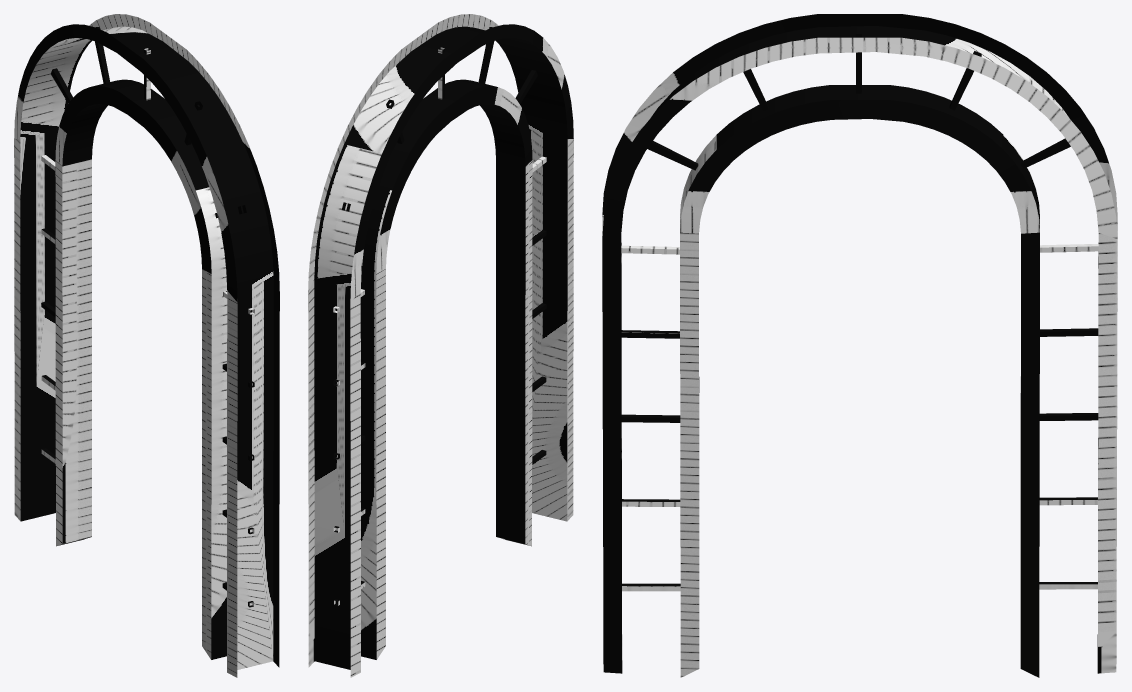
Rendered from door_metal_arch_frame.fbx.
3 renders of one model, left to right at view 1: azimuth 30°, elevation 25°; view 2: azimuth 150°, elevation 25°; view 3: azimuth 270°, elevation 25°, orthographic. The views are drawn at different scales.
Parts seen in each view (by area): view 1: arch; view 2: arch; view 3: arch.
Part boxes in pixels (x1=…): arch: x1=14, y1=14, x2=279, y2=677; arch: x1=308, y1=14, x2=573, y2=677; arch: x1=602, y1=14, x2=1117, y2=677.
Size of the model in its own units: 33.92 by 390 by 282.
